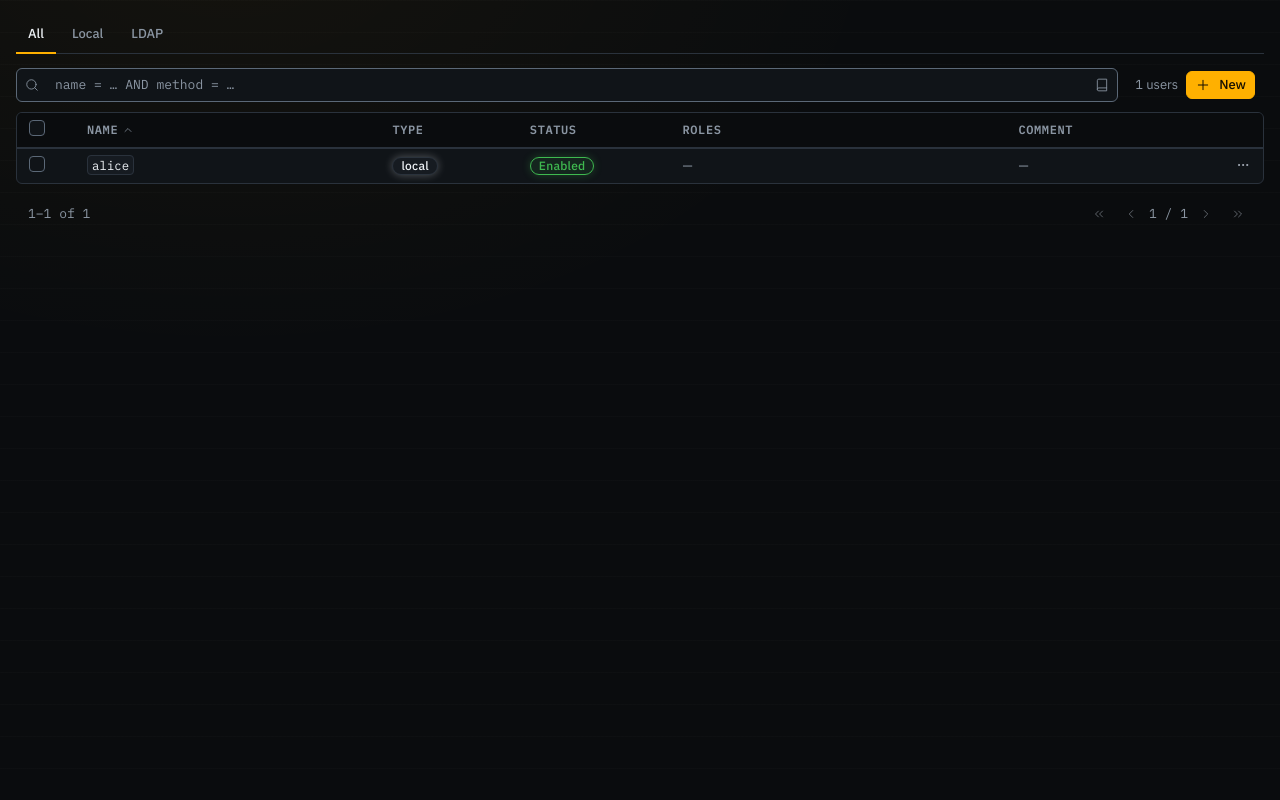
Test: UsersPage › lists one user and opens editor on row click
This screenshot has width=1280, height=800.
# Click the row to open the editor
Click the text "alice": (110, 165) top-left (87, 155), bottom-right (134, 175)
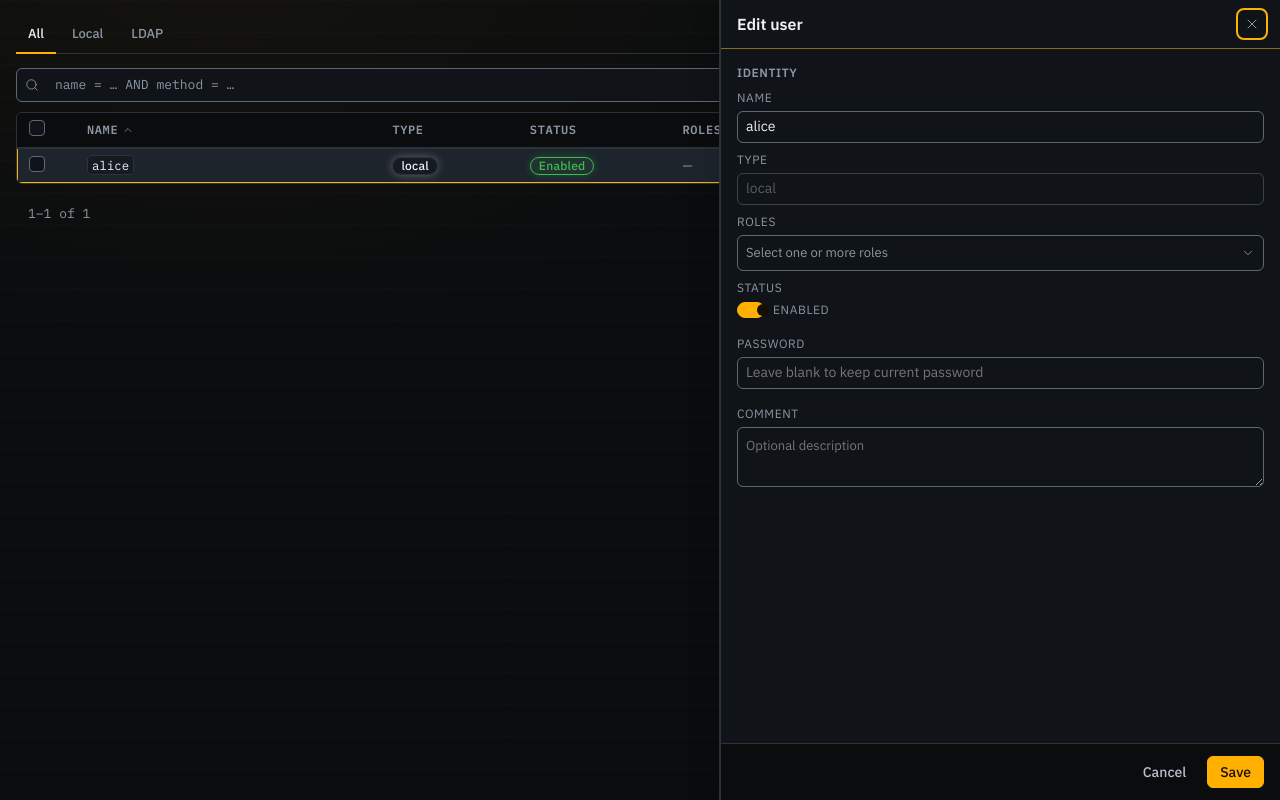
Expected: the heading "Edit user" is shown, top-left (737, 14), bottom-right (803, 34)
